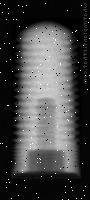Implant Direct: (12, 18, 82, 177)
